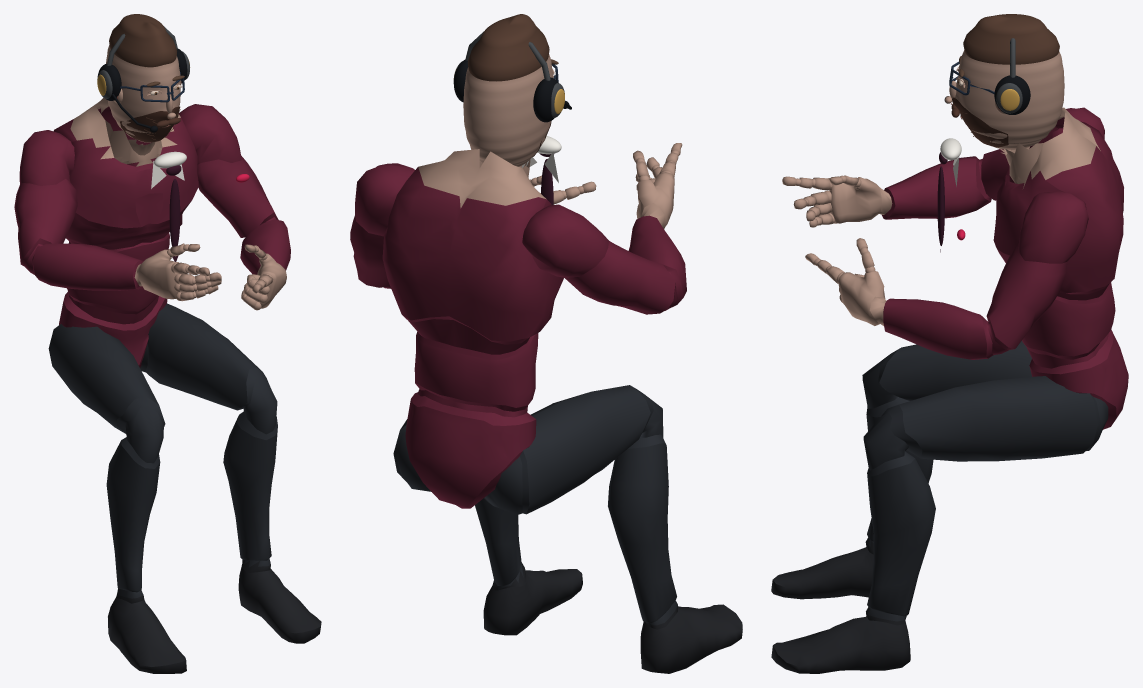
The model's file is commentator_tony.glb.
The picture shows the model from 3 angles, left to right: view 1: azimuth 30°, elevation 25°; view 2: azimuth 150°, elevation 25°; view 3: azimuth 270°, elevation 25°; orthographic projection. The views are drawn at different scales.
Parts seen in each view (by area): view 1: TonyRightArm, TonyLeftArm, TonySeatedBody, TonySculptedHead, TonySweptHair, TonyTailoring, TonyBroadcastHeadsetCups, TonyShapedBeard; view 2: TonySeatedBody, TonyRightArm, TonyLeftArm, TonySculptedHead, TonySweptHair, TonyBroadcastHeadsetCups, TonyTailoring; view 3: TonyLeftArm, TonyRightArm, TonySeatedBody, TonySculptedHead, TonySweptHair, TonyTailoring, TonyBroadcastHeadsetCups, TonyShapedBeard.
Part boxes in pixels (<box>): TonyRightArm: <box>14,130,221,673</box>; TonyLeftArm: <box>140,104,321,643</box>; TonySeatedBody: <box>53,98,183,367</box>; TonySculptedHead: <box>106,45,180,142</box>; TonySweptHair: <box>109,14,176,67</box>; TonyTailoring: <box>151,151,249,261</box>; TonyBroadcastHeadsetCups: <box>97,48,190,100</box>; TonyShapedBeard: <box>120,106,180,142</box>; TonySeatedBody: <box>382,149,563,508</box>; TonyRightArm: <box>483,143,742,673</box>; TonyLeftArm: <box>350,163,596,635</box>; TonySculptedHead: <box>463,54,553,166</box>; TonySweptHair: <box>467,14,549,81</box>; TonyBroadcastHeadsetCups: <box>453,60,564,122</box>; TonyTailoring: <box>521,136,561,205</box>; TonyLeftArm: <box>771,171,1108,673</box>; TonyRightArm: <box>771,107,1104,599</box>; TonySeatedBody: <box>997,107,1128,429</box>; TonySculptedHead: <box>955,50,1064,149</box>; TonySweptHair: <box>963,14,1059,64</box>; TonyTailoring: <box>937,138,965,252</box>; TonyBroadcastHeadsetCups: <box>994,75,1030,114</box>; TonyShapedBeard: <box>952,97,1008,147</box>.
Bounding box in the file's own units: 0.7062 × 1.46 × 0.7691.
19 materials, 1 textured.
